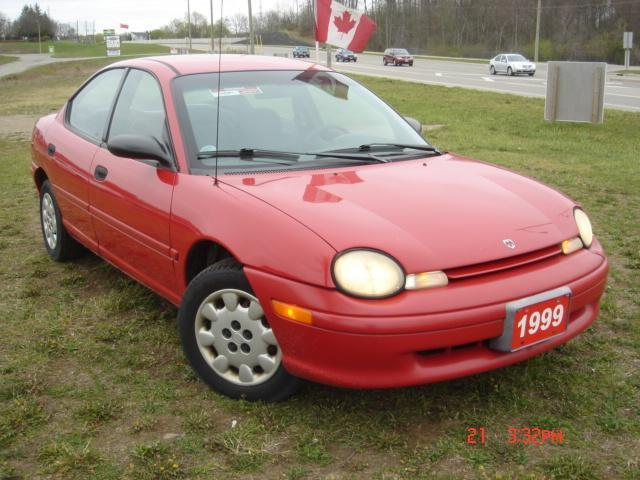car: (12, 37, 640, 426)
